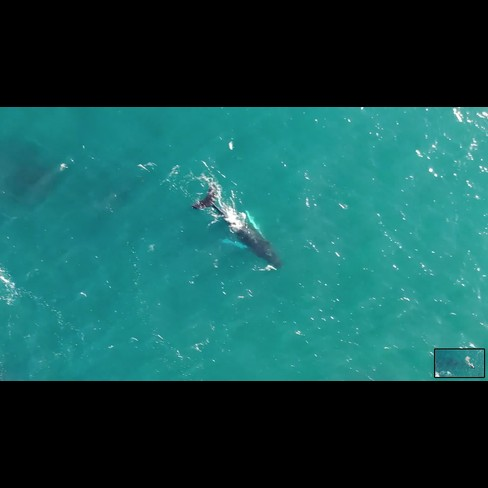hump: (185, 179, 285, 274)
